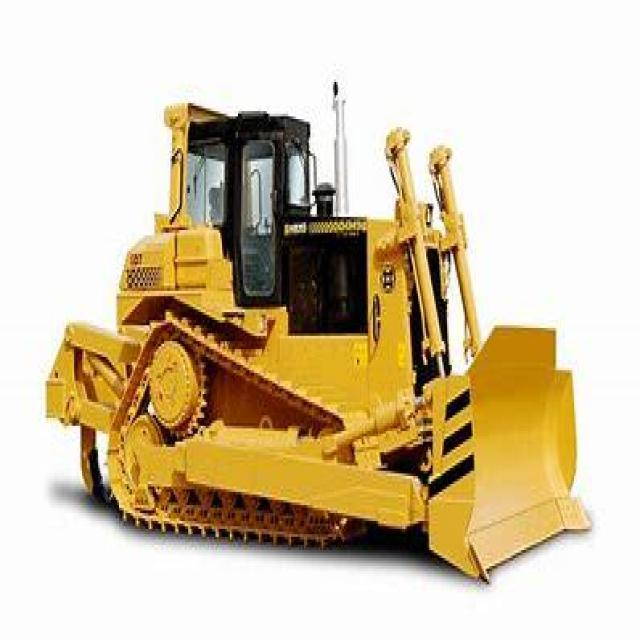buldozerpayloadergrader: (32, 85, 606, 592)
